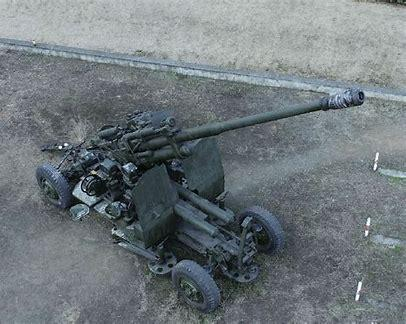MIL_SPG: (36, 89, 365, 312)
